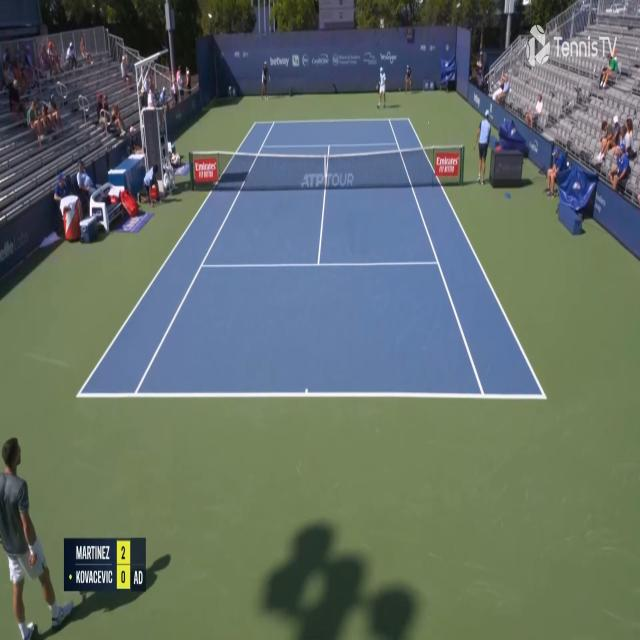tennis-player: (0, 429, 72, 639), (375, 64, 387, 109)
